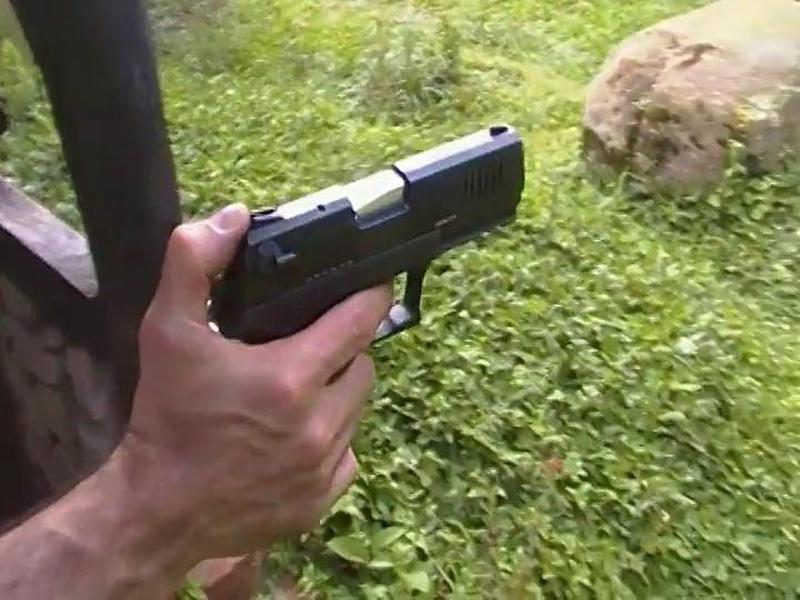Pistola: (203, 116, 544, 372)
